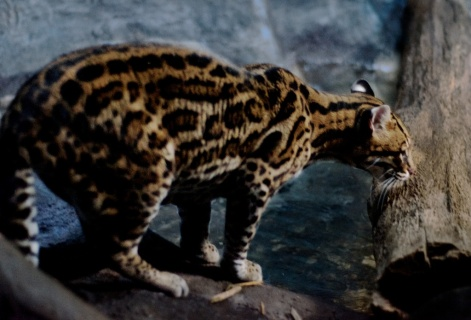Cat: (0, 42, 418, 295)
